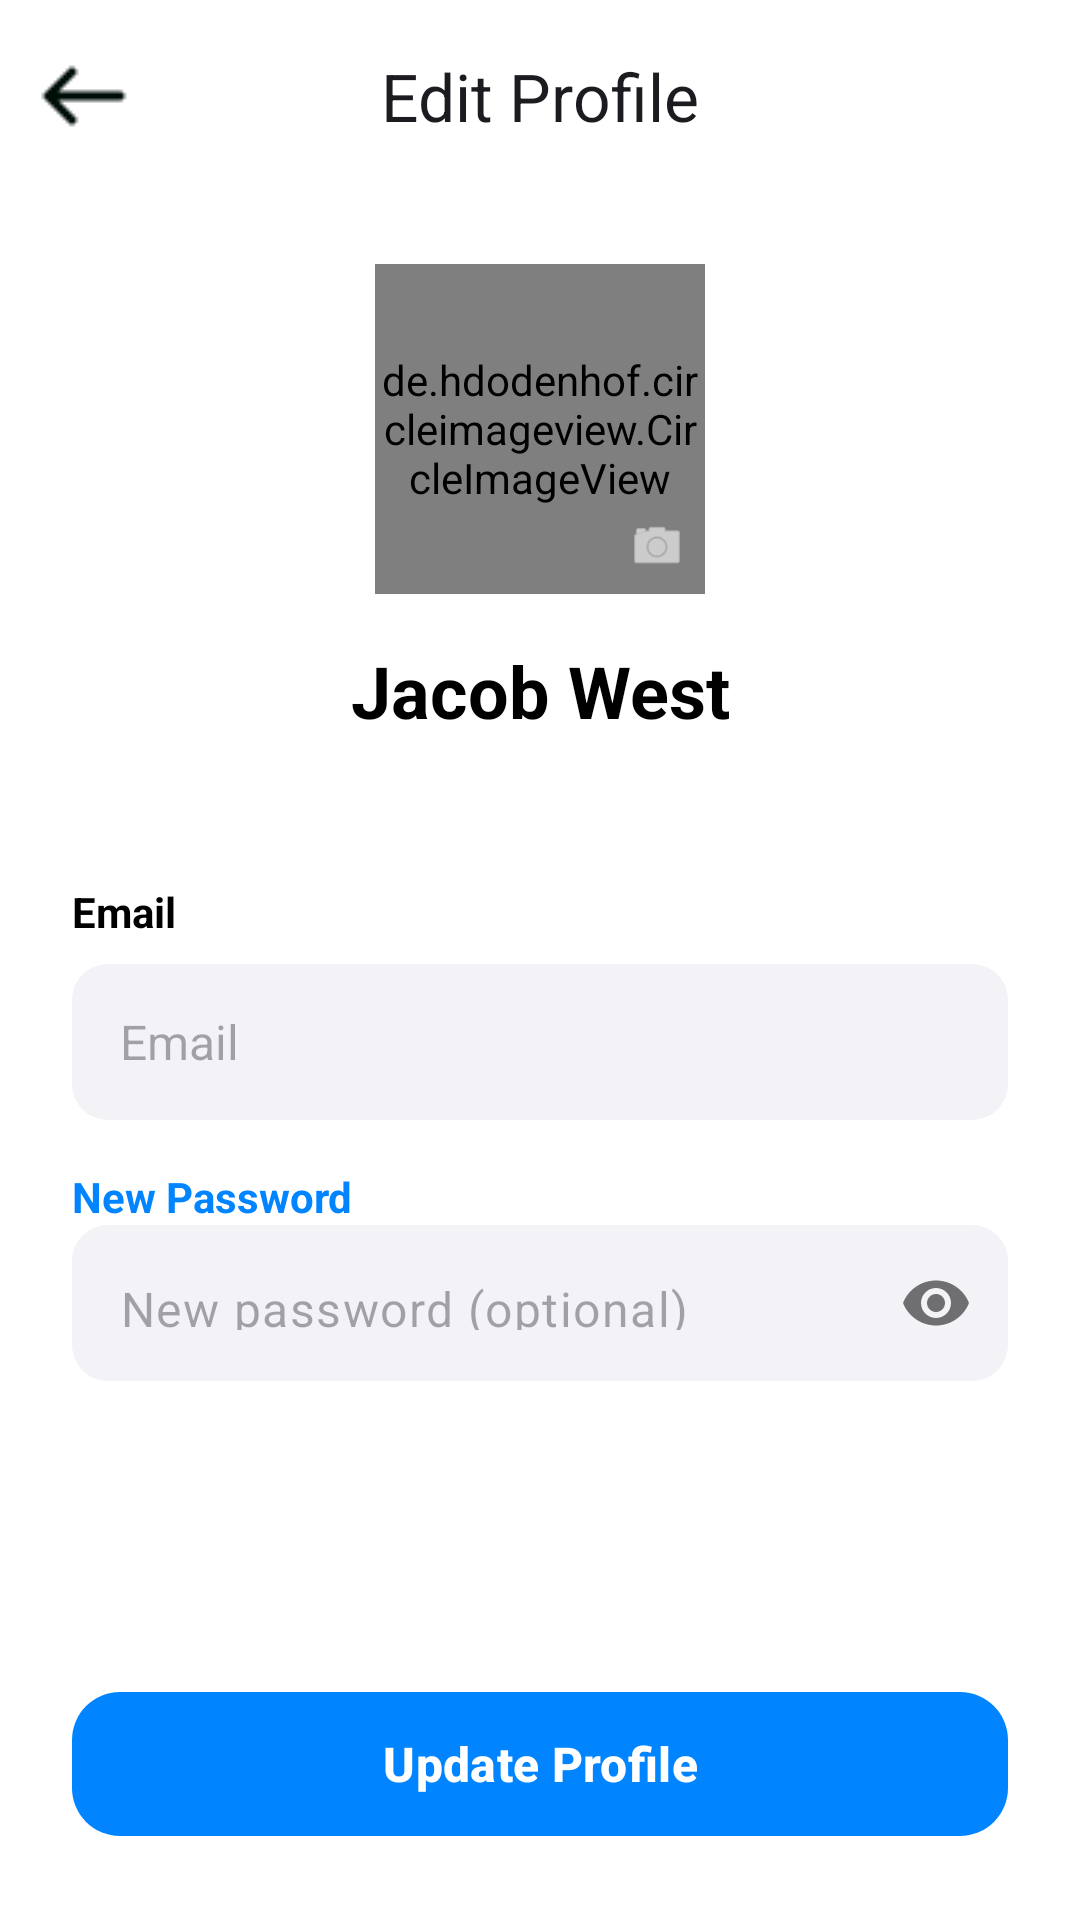

Named icons in this screenshot (1080×1920) and their bounding boxes, box=[x1, y1, x2, y2]:
camera: box=[634, 527, 680, 563]
